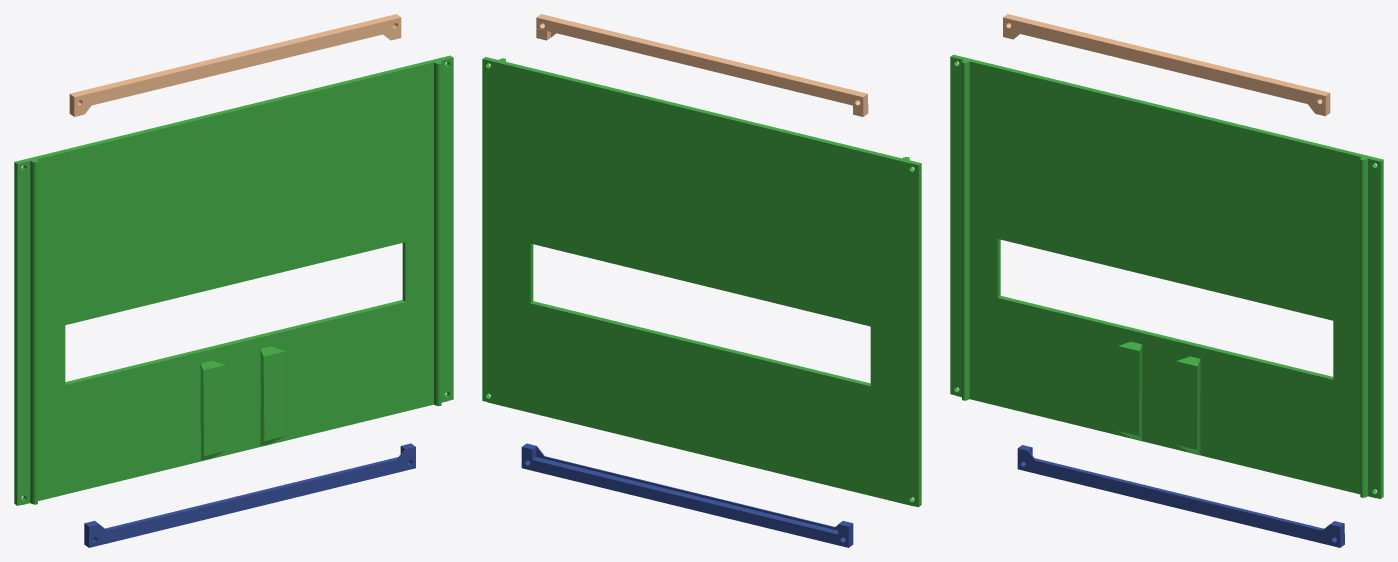
The model's file is tinker.obj.
3 renders of one model, left to right at view 1: azimuth 30°, elevation 25°; view 2: azimuth 150°, elevation 25°; view 3: azimuth 330°, elevation 25°, orthographic.
Visible parts, largest first — view 1: group_0_4634441, group_0_16500122, group_0_3888547; view 2: group_0_4634441, group_0_3888547, group_0_16500122; view 3: group_0_4634441, group_0_16500122, group_0_3888547.
Boxes of the visible parts, x1,y1,x2,y2 form: group_0_4634441: (14,55,453,505); group_0_16500122: (69,14,401,116); group_0_3888547: (84,443,415,547); group_0_4634441: (482,57,921,507); group_0_3888547: (521,443,853,547); group_0_16500122: (536,14,868,116); group_0_4634441: (950,54,1383,498); group_0_16500122: (1003,14,1330,116); group_0_3888547: (1017,445,1344,547).
Bounding box in the file's own units: 168 × 167 × 8.35.
